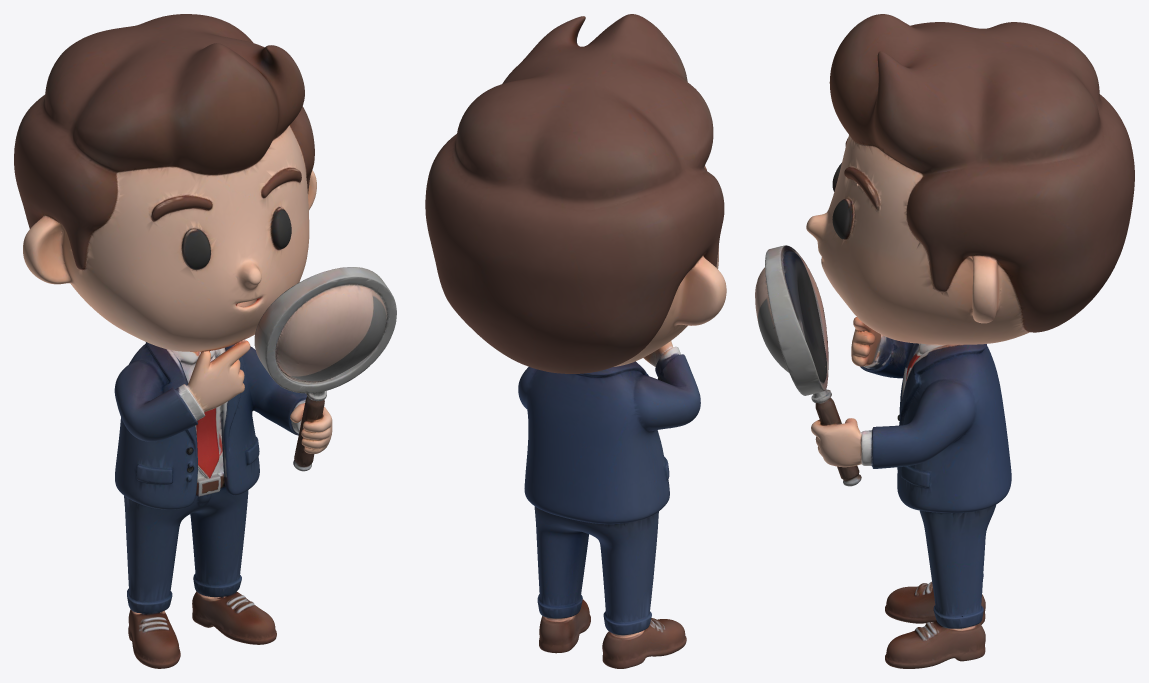
Rendered from seo.glb.
3 views of the same model, side by side, from view 1: azimuth 30°, elevation 25°; view 2: azimuth 150°, elevation 25°; view 3: azimuth 270°, elevation 25° (orthographic). The views are drawn at different scales.
Size of the model in its own units: 32338 by 65534 by 36220.
1 material, 1 textured.
